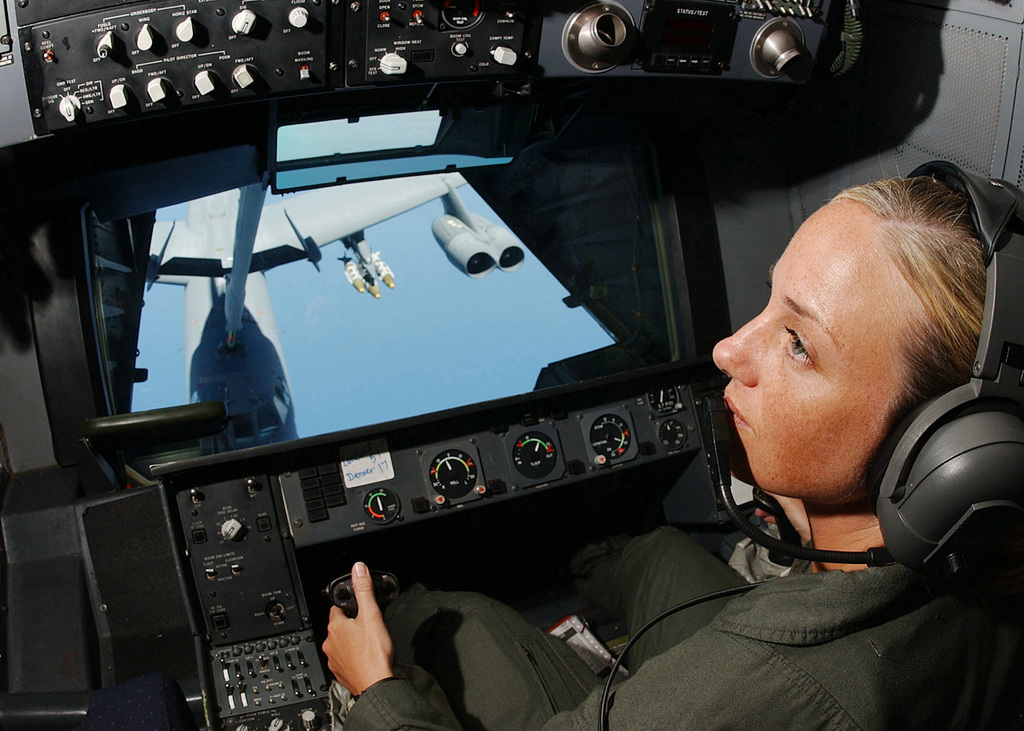B52: (145, 170, 525, 456)
